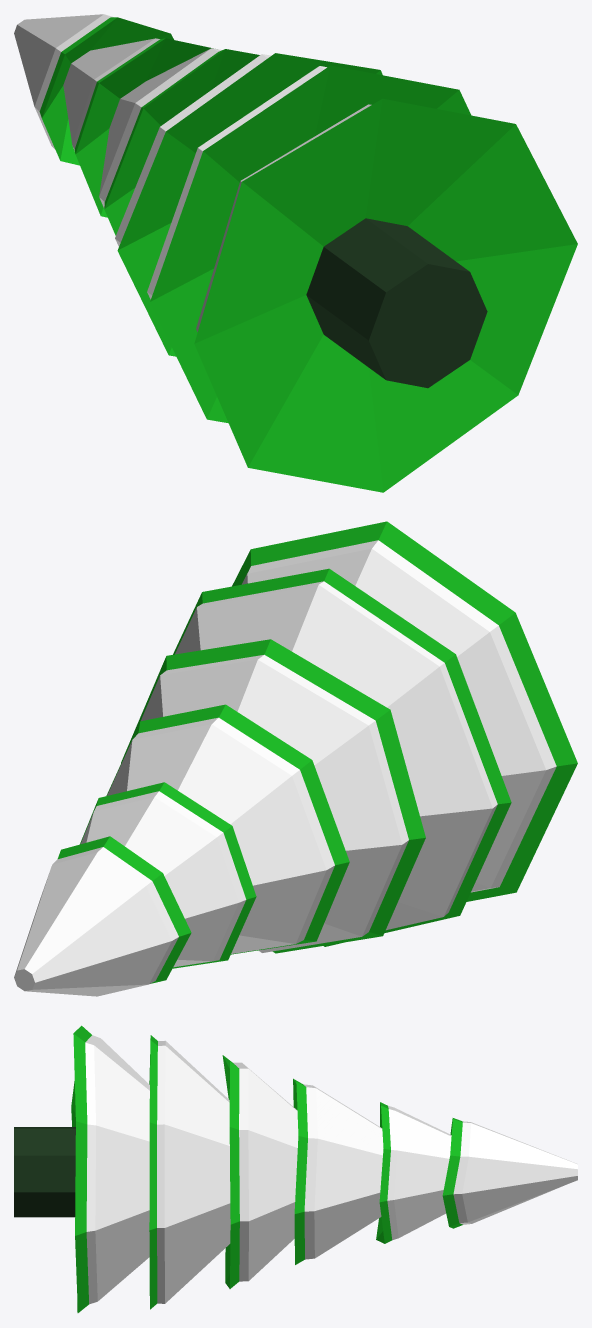
Rendered from Pine_3_Snow.fbx.
3 views of the same model, one above another, from view 1: azimuth 30°, elevation 25°; view 2: azimuth 150°, elevation 25°; view 3: azimuth 270°, elevation 25° (orthographic). The views are drawn at different scales.
Visible parts, largest first — view 1: Pine_3_Snow; view 2: Pine_3_Snow; view 3: Pine_3_Snow.
Boxes of the visible parts, x1,y1,x2,y2 form: Pine_3_Snow: (14, 14, 577, 492); Pine_3_Snow: (14, 521, 577, 996); Pine_3_Snow: (14, 1025, 577, 1312).
Bounding box in the file's own units: 132 × 130 × 239.
